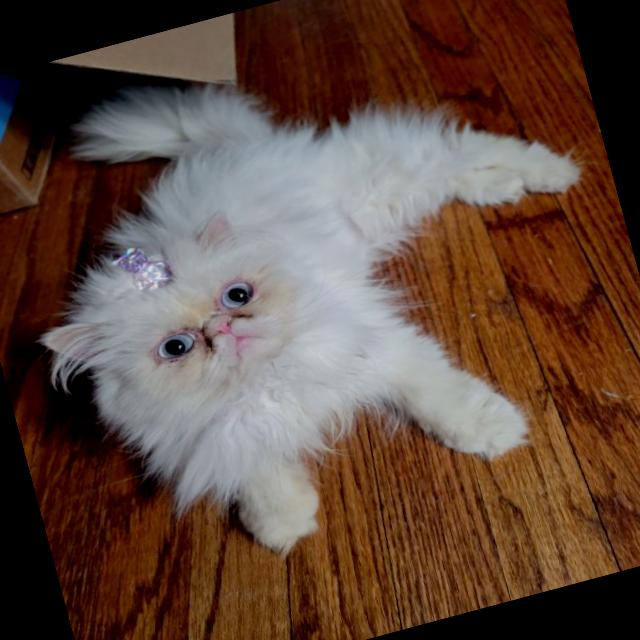persian_cat: (4, 176, 360, 466)
